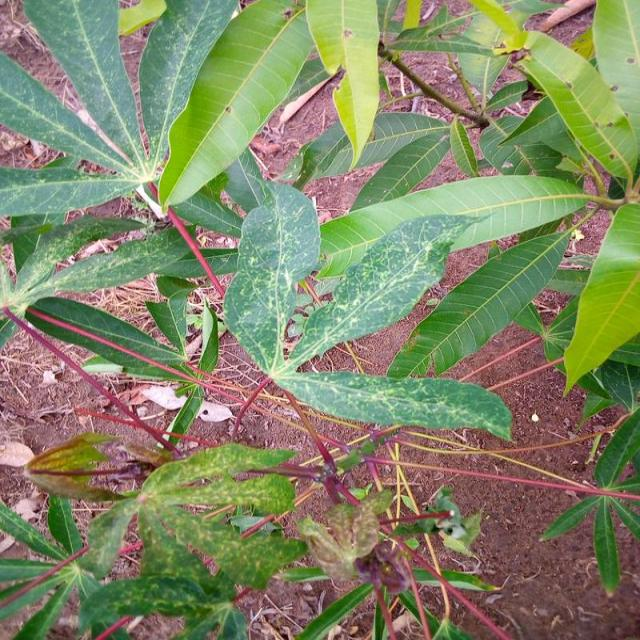cassava leaf: (222, 179, 514, 441), (156, 0, 317, 212), (562, 200, 639, 398)
